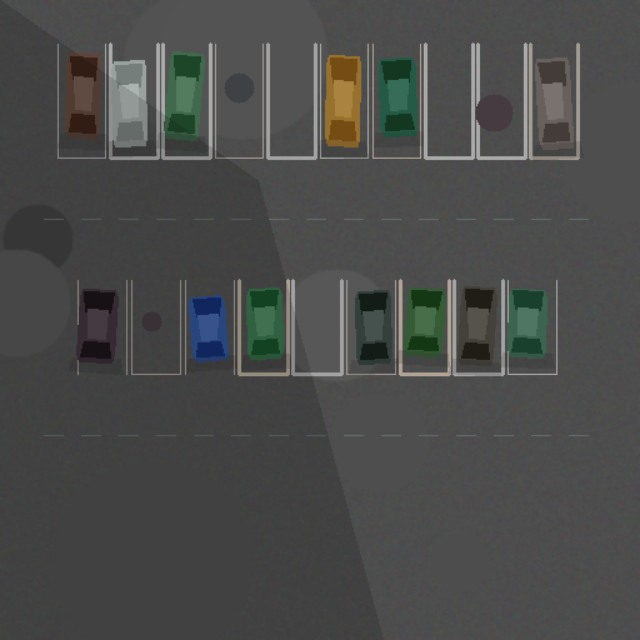space-empty: (215, 44, 263, 158), (267, 44, 315, 158), (425, 44, 473, 158), (477, 44, 525, 158), (131, 280, 180, 374), (292, 280, 341, 374)
space-occupied: (57, 44, 105, 158), (110, 44, 157, 158), (163, 44, 210, 158), (320, 44, 367, 158), (373, 44, 420, 158), (530, 44, 577, 158), (185, 280, 234, 374), (239, 280, 288, 374), (346, 280, 395, 374), (400, 280, 449, 374), (78, 280, 126, 374), (454, 280, 502, 374), (508, 280, 556, 374)
